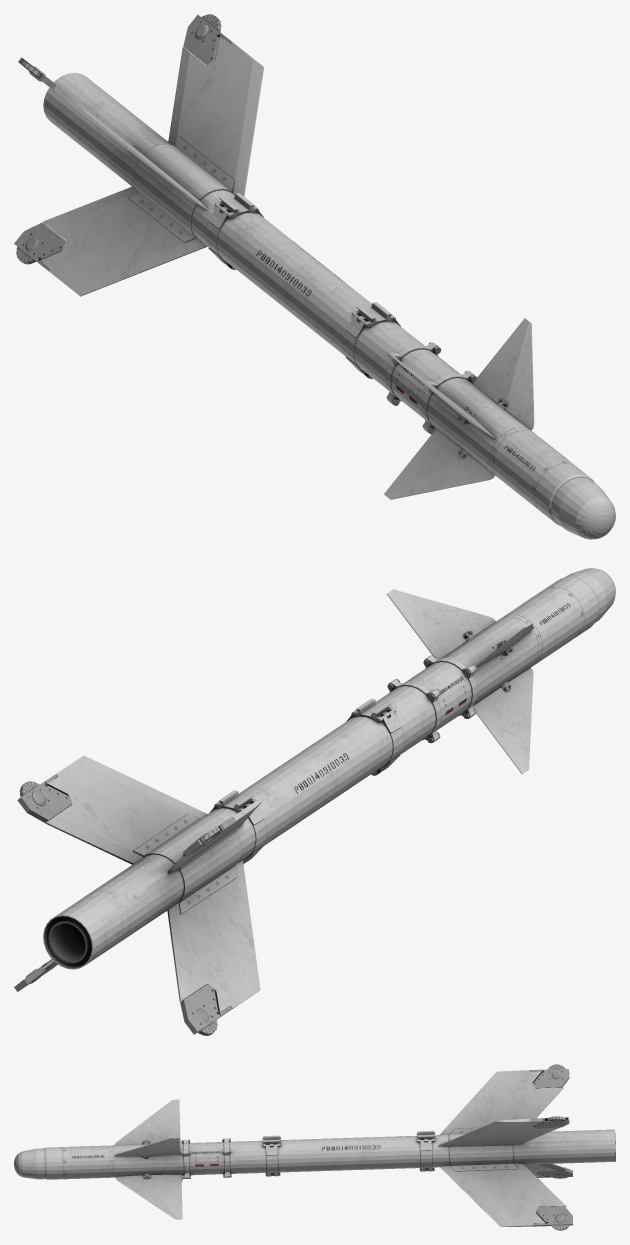
3 renders of one model, top to bottom at view 1: azimuth 30°, elevation 25°; view 2: azimuth 150°, elevation 25°; view 3: azimuth 270°, elevation 25°, orthographic. The views are drawn at different scales.
Visible parts, largest first — view 1: pl_8b#@root_236; view 2: pl_8b#@root_236; view 3: pl_8b#@root_236.
Boxes of the visible parts, x1,y1,x2,y2 form: pl_8b#@root_236: [14, 14, 615, 539]; pl_8b#@root_236: [14, 568, 615, 1035]; pl_8b#@root_236: [14, 1064, 615, 1230].
Bounding box in the file's own units: 62.44 × 62.41 × 297.
